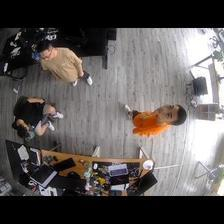normal: (37, 41, 93, 86), (125, 101, 187, 137), (17, 96, 63, 142)
